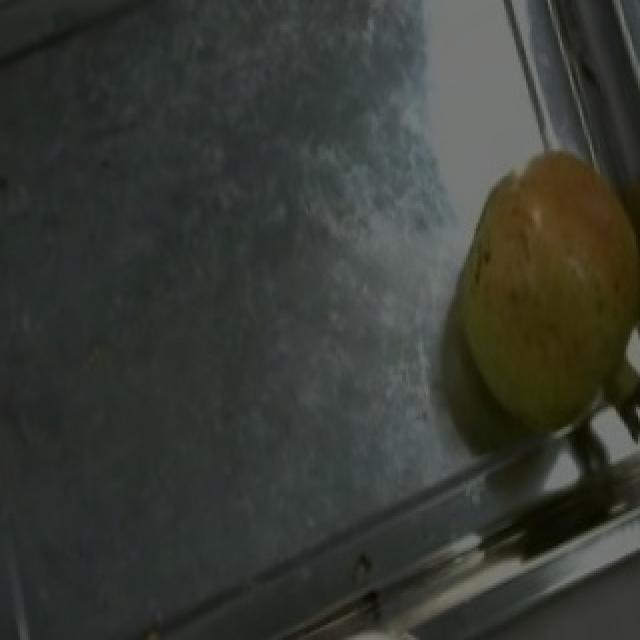fruit: (430, 124, 640, 355)
